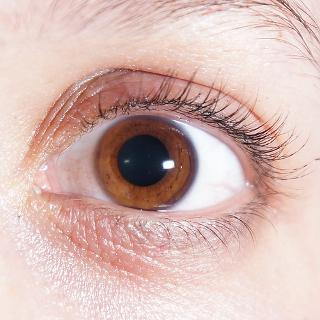pupil: (116, 135, 169, 188)
